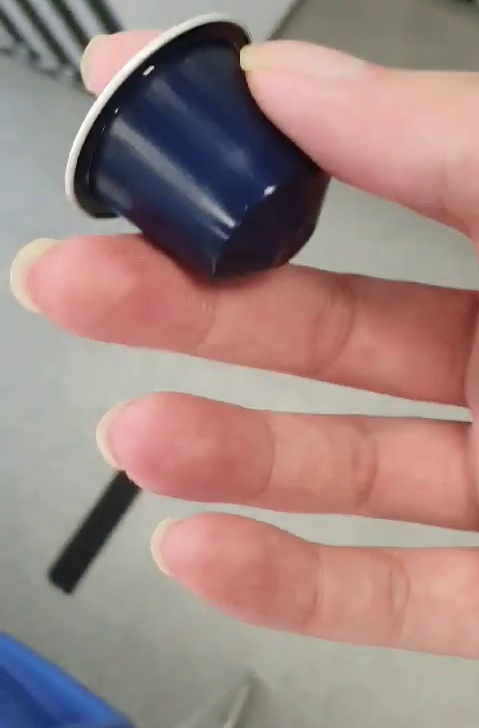capsule_1: (65, 9, 332, 286)
